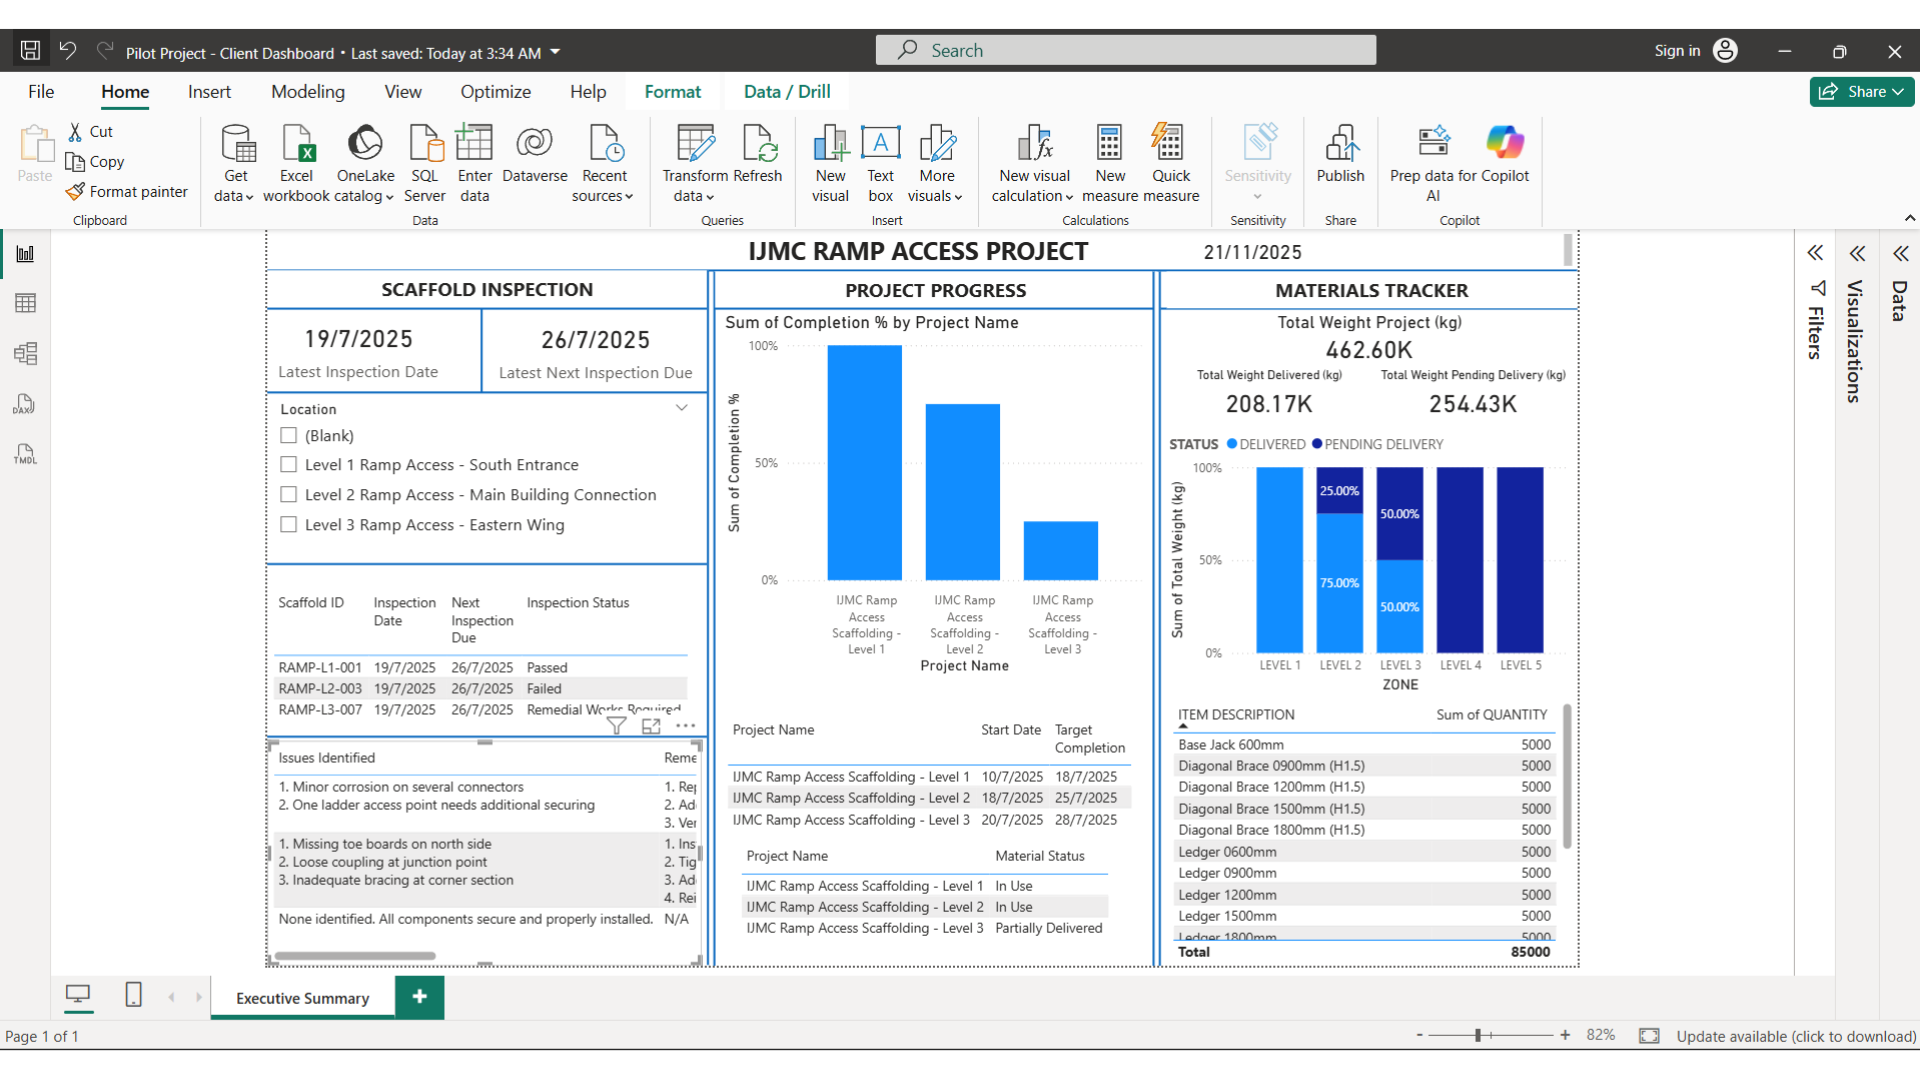

Layout of this report page (visuals, bound fields, positions):
{"tool":"powerbi","page":{"name":"Executive Summary","canvas":[1280,720],"ordinal":0},"visuals":[{"type":"textbox","box":[0,0,1280.3,41.6],"z":0},{"type":"shape","box":[0,34,1280,12.6],"z":1000},{"type":"textbox","box":[0,40.9,430.9,37],"z":2000},{"type":"shape","box":[424.1,40.9,12.6,678.9],"z":3000},{"type":"tableEx","fields":{"Values":["Scaffold Inspection Database.Scaffold ID","Scaffold Inspection Database.Inspection Date","Scaffold Inspection Database.Next Inspection Due","Scaffold Inspection Database.Inspection Status"]},"box":[0,348.2,424.1,144.9],"z":4000},{"type":"card","fields":{"Values":["Max(Scaffold Inspection Database.Inspection Date)"]},"box":[0,74.7,178.7,84.5],"z":5000},{"type":"card","fields":{"Values":["Scaffold Inspection Database.Todays Date"]},"box":[905.3,7.6,117,31.4],"z":6000},{"type":"slicer","fields":{"Values":["Scaffold Inspection Database.Location"]},"box":[0,162.4,424.1,161.5],"z":7000},{"type":"shape","box":[0,323.9,429.9,6.8],"z":8000},{"type":"shape","box":[0,74.7,429.9,6.5],"z":9000},{"type":"tableEx","fields":{"Values":["Scaffold Inspection Database.Issues Identified","Scaffold Inspection Database.Remedial Actions","Scaffold Inspection Database.Notes"]},"box":[0,499.9,424.1,219.8],"z":10000},{"type":"shape","box":[0,155.9,429.9,6.5],"z":11000},{"type":"shape","box":[0,493.1,429.9,6.8],"z":12000},{"type":"shape","box":[429.9,41.2,13,679],"z":13000},{"type":"card","fields":{"Values":["Max(Scaffold Inspection Database.Next Inspection Due)"]},"box":[215.5,81.2,212.3,74.7],"z":14000},{"type":"shape","box":[202.5,78,13,81.2],"z":15000},{"type":"textbox","box":[437.5,41.2,431,36.8],"z":16000},{"type":"shape","box":[859.8,41.2,13,679],"z":17000},{"type":"shape","box":[436.4,74.7,429.9,6.5],"z":18000},{"type":"columnChart","fields":{"Category":["TESS Project Progress Tracker.Project Name"],"Y":["Sum(TESS Project Progress Tracker.Completion %)"]},"box":[442.9,81.2,416.9,359.5],"z":19000},{"type":"tableEx","fields":{"Values":["TESS Project Progress Tracker.Project Name","TESS Project Progress Tracker.Start Date","TESS Project Progress Tracker.Target Completion"]},"box":[444,473.2,416.9,123.5],"z":20000},{"type":"tableEx","fields":{"Values":["TESS Project Progress Tracker.Project Name","TESS Project Progress Tracker.Material Status"]},"box":[457,596.7,390.9,123.5],"z":21000},{"type":"shape","box":[866.3,41.2,13,679],"z":22000},{"type":"shape","box":[872.8,74.7,407.2,6.5],"z":23000},{"type":"textbox","box":[879.3,41.2,400.7,35.7],"z":24000},{"type":"card","title":"Total Weight Project (kg)","fields":{"Values":["TESS Project Progress Tracker.Total Weight Project (kg)"]},"box":[934.6,81.2,285.9,54.1],"z":25000},{"type":"card","title":"Total Weight Delivered (kg)","fields":{"Values":["Sum(IJMC Materials Tracker.Total Weight (kg))"]},"box":[879.3,135.4,200.3,54.1],"z":26000},{"type":"card","title":"Total Weight Pending Delivery (kg)","fields":{"Values":["Sum(IJMC Materials Tracker.Total Weight (kg))"]},"box":[1077.5,135.4,202.5,54.1],"z":27000},{"type":"hundredPercentStackedColumnChart","fields":{"Category":["IJMC Materials Tracker.ZONE"],"Y":["Sum(IJMC Materials Tracker.Total Weight (kg))"],"Series":["IJMC Materials Tracker.STATUS"]},"box":[877.2,189.5,400.7,268.6],"z":28000},{"type":"tableEx","fields":{"Values":["IJMC Materials Tracker.ITEM DESCRIPTION","Sum(IJMC Materials Tracker.QUANTITY)"]},"box":[879.3,458.1,400.7,262.1],"z":29000}]}

Visuals, with their boxes on the page's 1280x720 design canvas (x1, y1, x2, y2). These are canvas units, not pixel positions in the 1920x1080 screenshot, which may show the page scaled, cropped or inside an application window:
textbox: box=[0, 0, 1280, 42]
shape: box=[0, 34, 1280, 47]
textbox: box=[0, 41, 431, 78]
shape: box=[424, 41, 437, 720]
tableEx - Scaffold Inspection Database.Scaffold ID x Scaffold Inspection Database.Inspection Date: box=[0, 348, 424, 493]
card - Max(Scaffold Inspection Database.Inspection Date): box=[0, 75, 179, 159]
card - Scaffold Inspection Database.Todays Date: box=[905, 8, 1022, 39]
slicer - Scaffold Inspection Database.Location: box=[0, 162, 424, 324]
shape: box=[0, 324, 430, 331]
shape: box=[0, 75, 430, 81]
tableEx - Scaffold Inspection Database.Issues Identified x Scaffold Inspection Database.Remedial Actions: box=[0, 500, 424, 720]
shape: box=[0, 156, 430, 162]
shape: box=[0, 493, 430, 500]
shape: box=[430, 41, 443, 720]
card - Max(Scaffold Inspection Database.Next Inspection Due): box=[216, 81, 428, 156]
shape: box=[202, 78, 216, 159]
textbox: box=[438, 41, 868, 78]
shape: box=[860, 41, 873, 720]
shape: box=[436, 75, 866, 81]
columnChart - TESS Project Progress Tracker.Project Name x Sum(TESS Project Progress Tracker.Completion %): box=[443, 81, 860, 441]
tableEx - TESS Project Progress Tracker.Project Name x TESS Project Progress Tracker.Start Date: box=[444, 473, 861, 597]
tableEx - TESS Project Progress Tracker.Project Name x TESS Project Progress Tracker.Material Status: box=[457, 597, 848, 720]
shape: box=[866, 41, 879, 720]
shape: box=[873, 75, 1280, 81]
textbox: box=[879, 41, 1280, 77]
"Total Weight Project (kg)" card: box=[935, 81, 1220, 135]
"Total Weight Delivered (kg)" card: box=[879, 135, 1080, 190]
"Total Weight Pending Delivery (kg)" card: box=[1078, 135, 1280, 190]
hundredPercentStackedColumnChart - IJMC Materials Tracker.ZONE x Sum(IJMC Materials Tracker.Total Weight (kg)): box=[877, 190, 1278, 458]
tableEx - IJMC Materials Tracker.ITEM DESCRIPTION x Sum(IJMC Materials Tracker.QUANTITY): box=[879, 458, 1280, 720]
